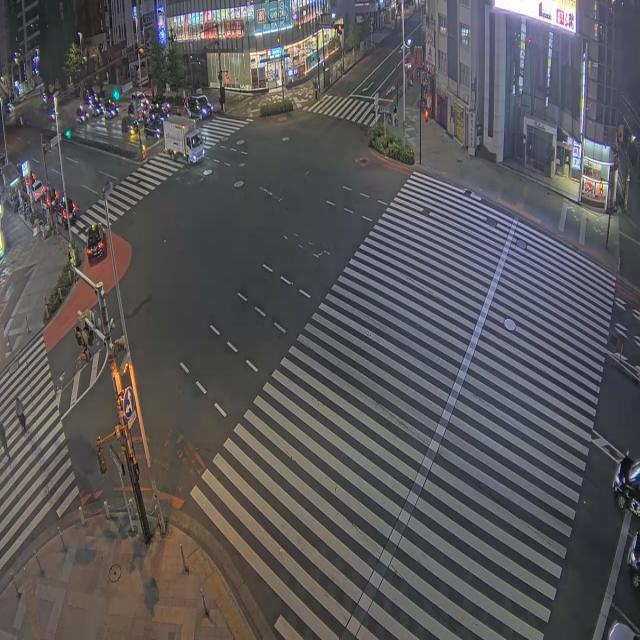car: (613, 456, 639, 515), (86, 224, 105, 261), (628, 533, 639, 588), (188, 96, 213, 119), (607, 623, 639, 639), (55, 204, 76, 228), (144, 120, 163, 139), (102, 99, 118, 119), (32, 180, 46, 202), (122, 115, 139, 133), (131, 92, 149, 108), (88, 101, 103, 117), (77, 105, 88, 123)
truck: (164, 116, 204, 163)
